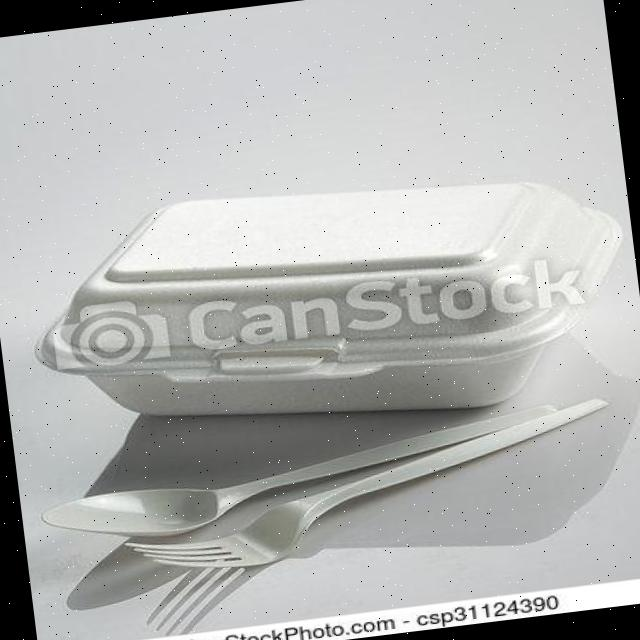styrofoam: (14, 144, 640, 462)
